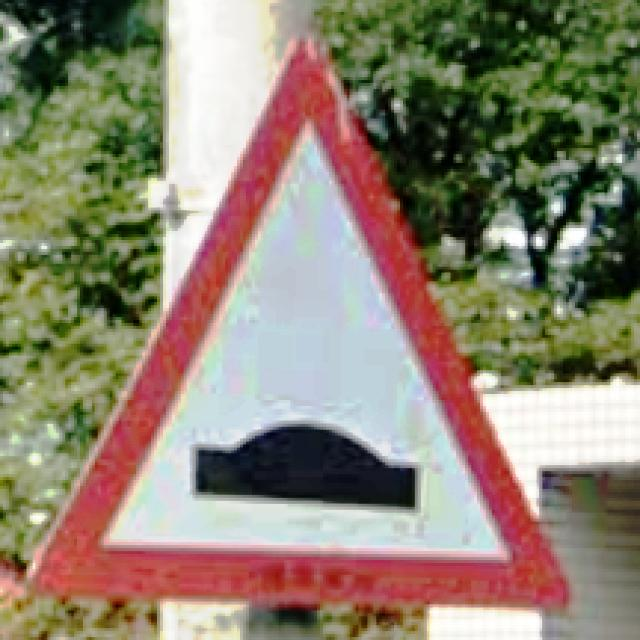hump: (28, 36, 572, 608)
